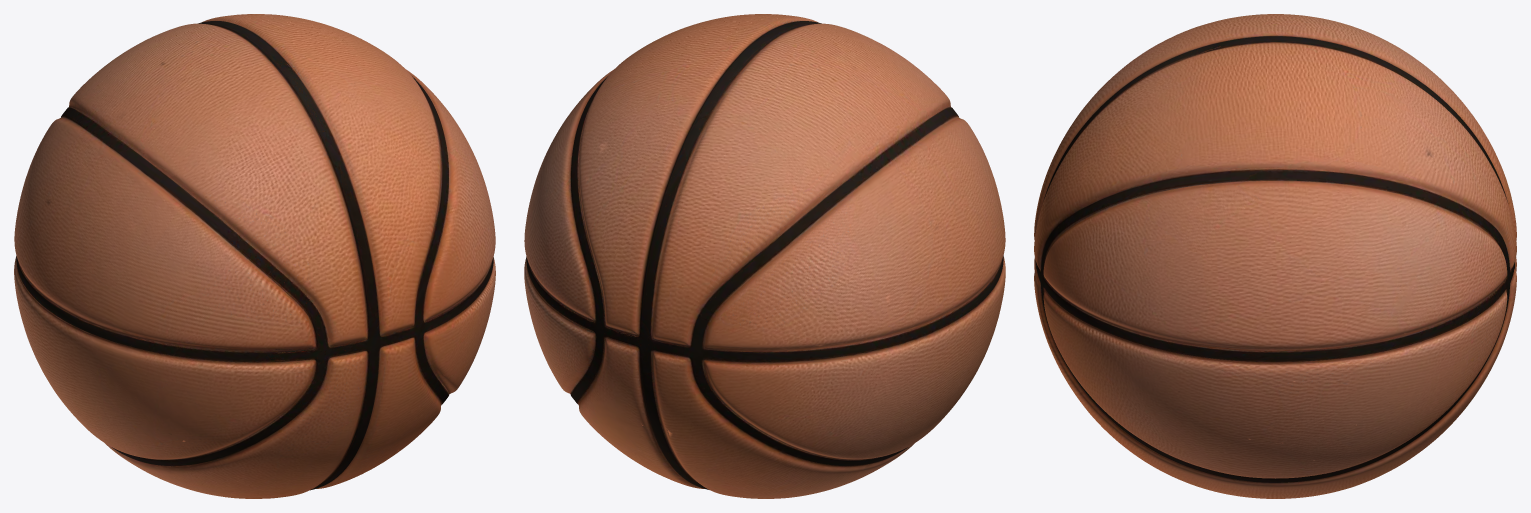
The model's file is basketball-opt.glb.
The picture shows the model from 3 angles, left to right: view 1: azimuth 30°, elevation 25°; view 2: azimuth 150°, elevation 25°; view 3: azimuth 270°, elevation 25°; orthographic projection.
Parts seen in each view (by area): view 1: node_0; view 2: node_0; view 3: node_0.
Boxes of the visible parts, left/top/right/bottom form: node_0: left=14, top=14, right=495, bottom=498; node_0: left=524, top=14, right=1005, bottom=498; node_0: left=1034, top=14, right=1516, bottom=498.
Bounding box in the file's own units: 1.18 × 1.19 × 1.19.
Materials: 1 (1 with a texture image).
